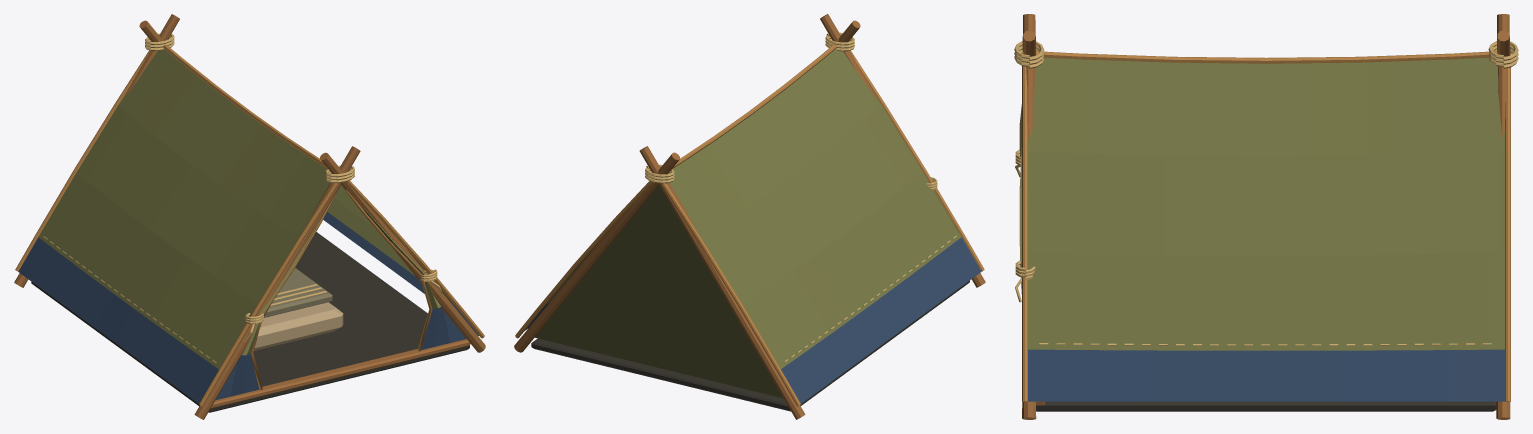
Rendered from tent.glb.
3 renders of one model, left to right at view 1: azimuth 30°, elevation 25°; view 2: azimuth 150°, elevation 25°; view 3: azimuth 270°, elevation 25°, orthographic. The views are drawn at different scales.
Parts seen in each view (by area): view 1: Olive Trail Tent; view 2: Olive Trail Tent; view 3: Olive Trail Tent.
Boxes of the visible parts, box(x1,y1,x2,y2) form: Olive Trail Tent: box(14, 14, 485, 419); Olive Trail Tent: box(514, 14, 985, 419); Olive Trail Tent: box(1014, 14, 1518, 419).
Size of the model in its own units: 3.04 by 2.36 by 3.49.
